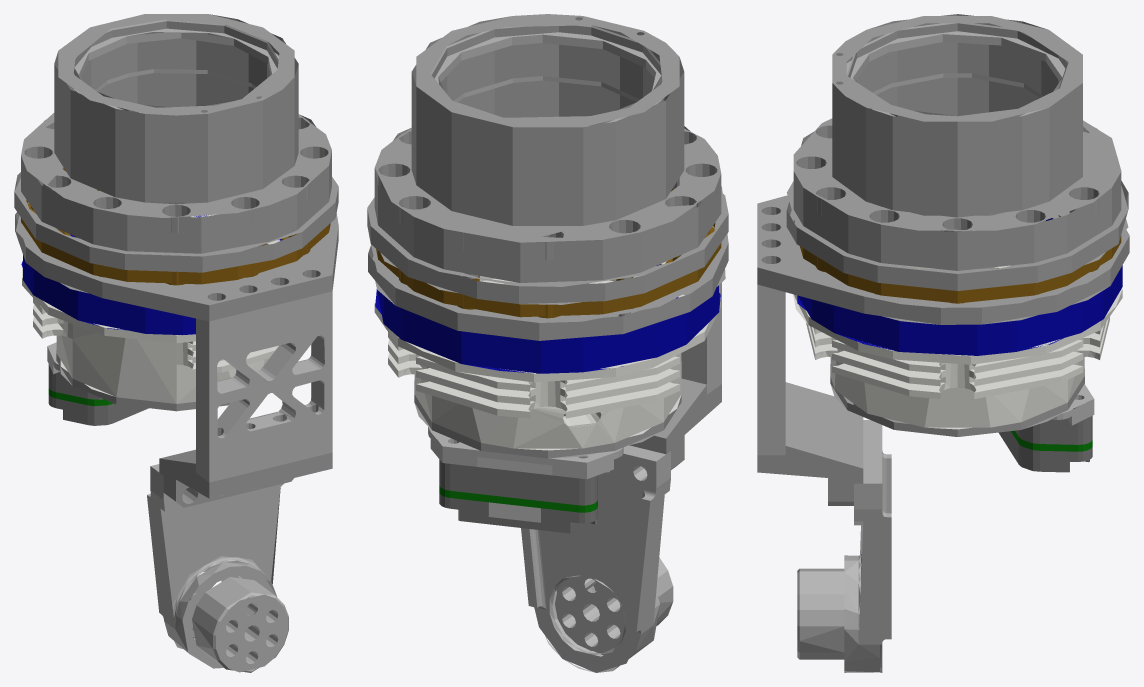
The model's file is ArmR_Sho3_joint_visu.dae.
The picture shows the model from 3 angles, left to right: view 1: azimuth 30°, elevation 25°; view 2: azimuth 150°, elevation 25°; view 3: azimuth 270°, elevation 25°; orthographic projection. The views are drawn at different scales.
Visible parts, largest first — view 1: Visualization_ARDof3; view 2: Visualization_ARDof3; view 3: Visualization_ARDof3.
Boxes of the visible parts, bbox=[...] form: Visualization_ARDof3: bbox=[14, 14, 338, 672]; Visualization_ARDof3: bbox=[367, 14, 728, 672]; Visualization_ARDof3: bbox=[757, 14, 1129, 672].
Size of the model in its own units: 0.073 by 0.079 by 0.1401.
